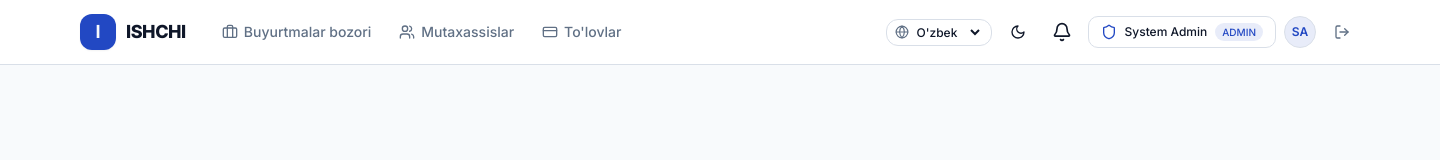
Test: Navigation, Trilingual i18n Switcher, and Disabled Payments Notice › switches UI text dynamically between Uzbek, Russian, and English and renders Admin navbar items
The width and height of the screenshot is (1440, 160).
Check: the link "Buyurtmalar bozori" is shown, box [222,23,371,40]
Check: the text "System Admin" is shown, box [1124,24,1207,40]
Select "English" in the dropdown named "Til": (948, 32) [912,24,982,40]
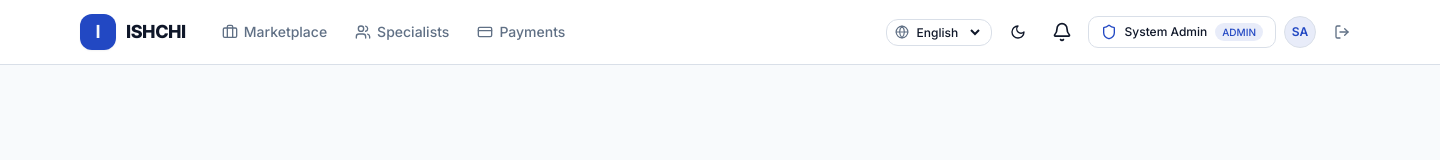
Check: the link "Marketplace" is shown, box [222,23,327,40]
Check: the link "Specialists" is shown, box [355,23,449,40]
Select "Русский" in the dropdown named "Language": (948, 32) [912,24,982,40]
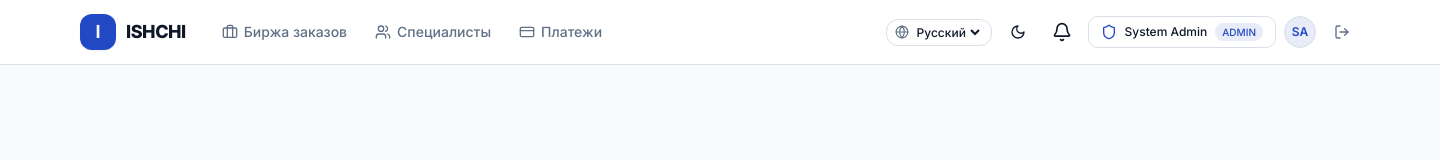
Check: the link "Биржа заказов" is shown, box [222,23,347,40]
Check: the link "Платежи" is shown, box [519,23,602,40]
